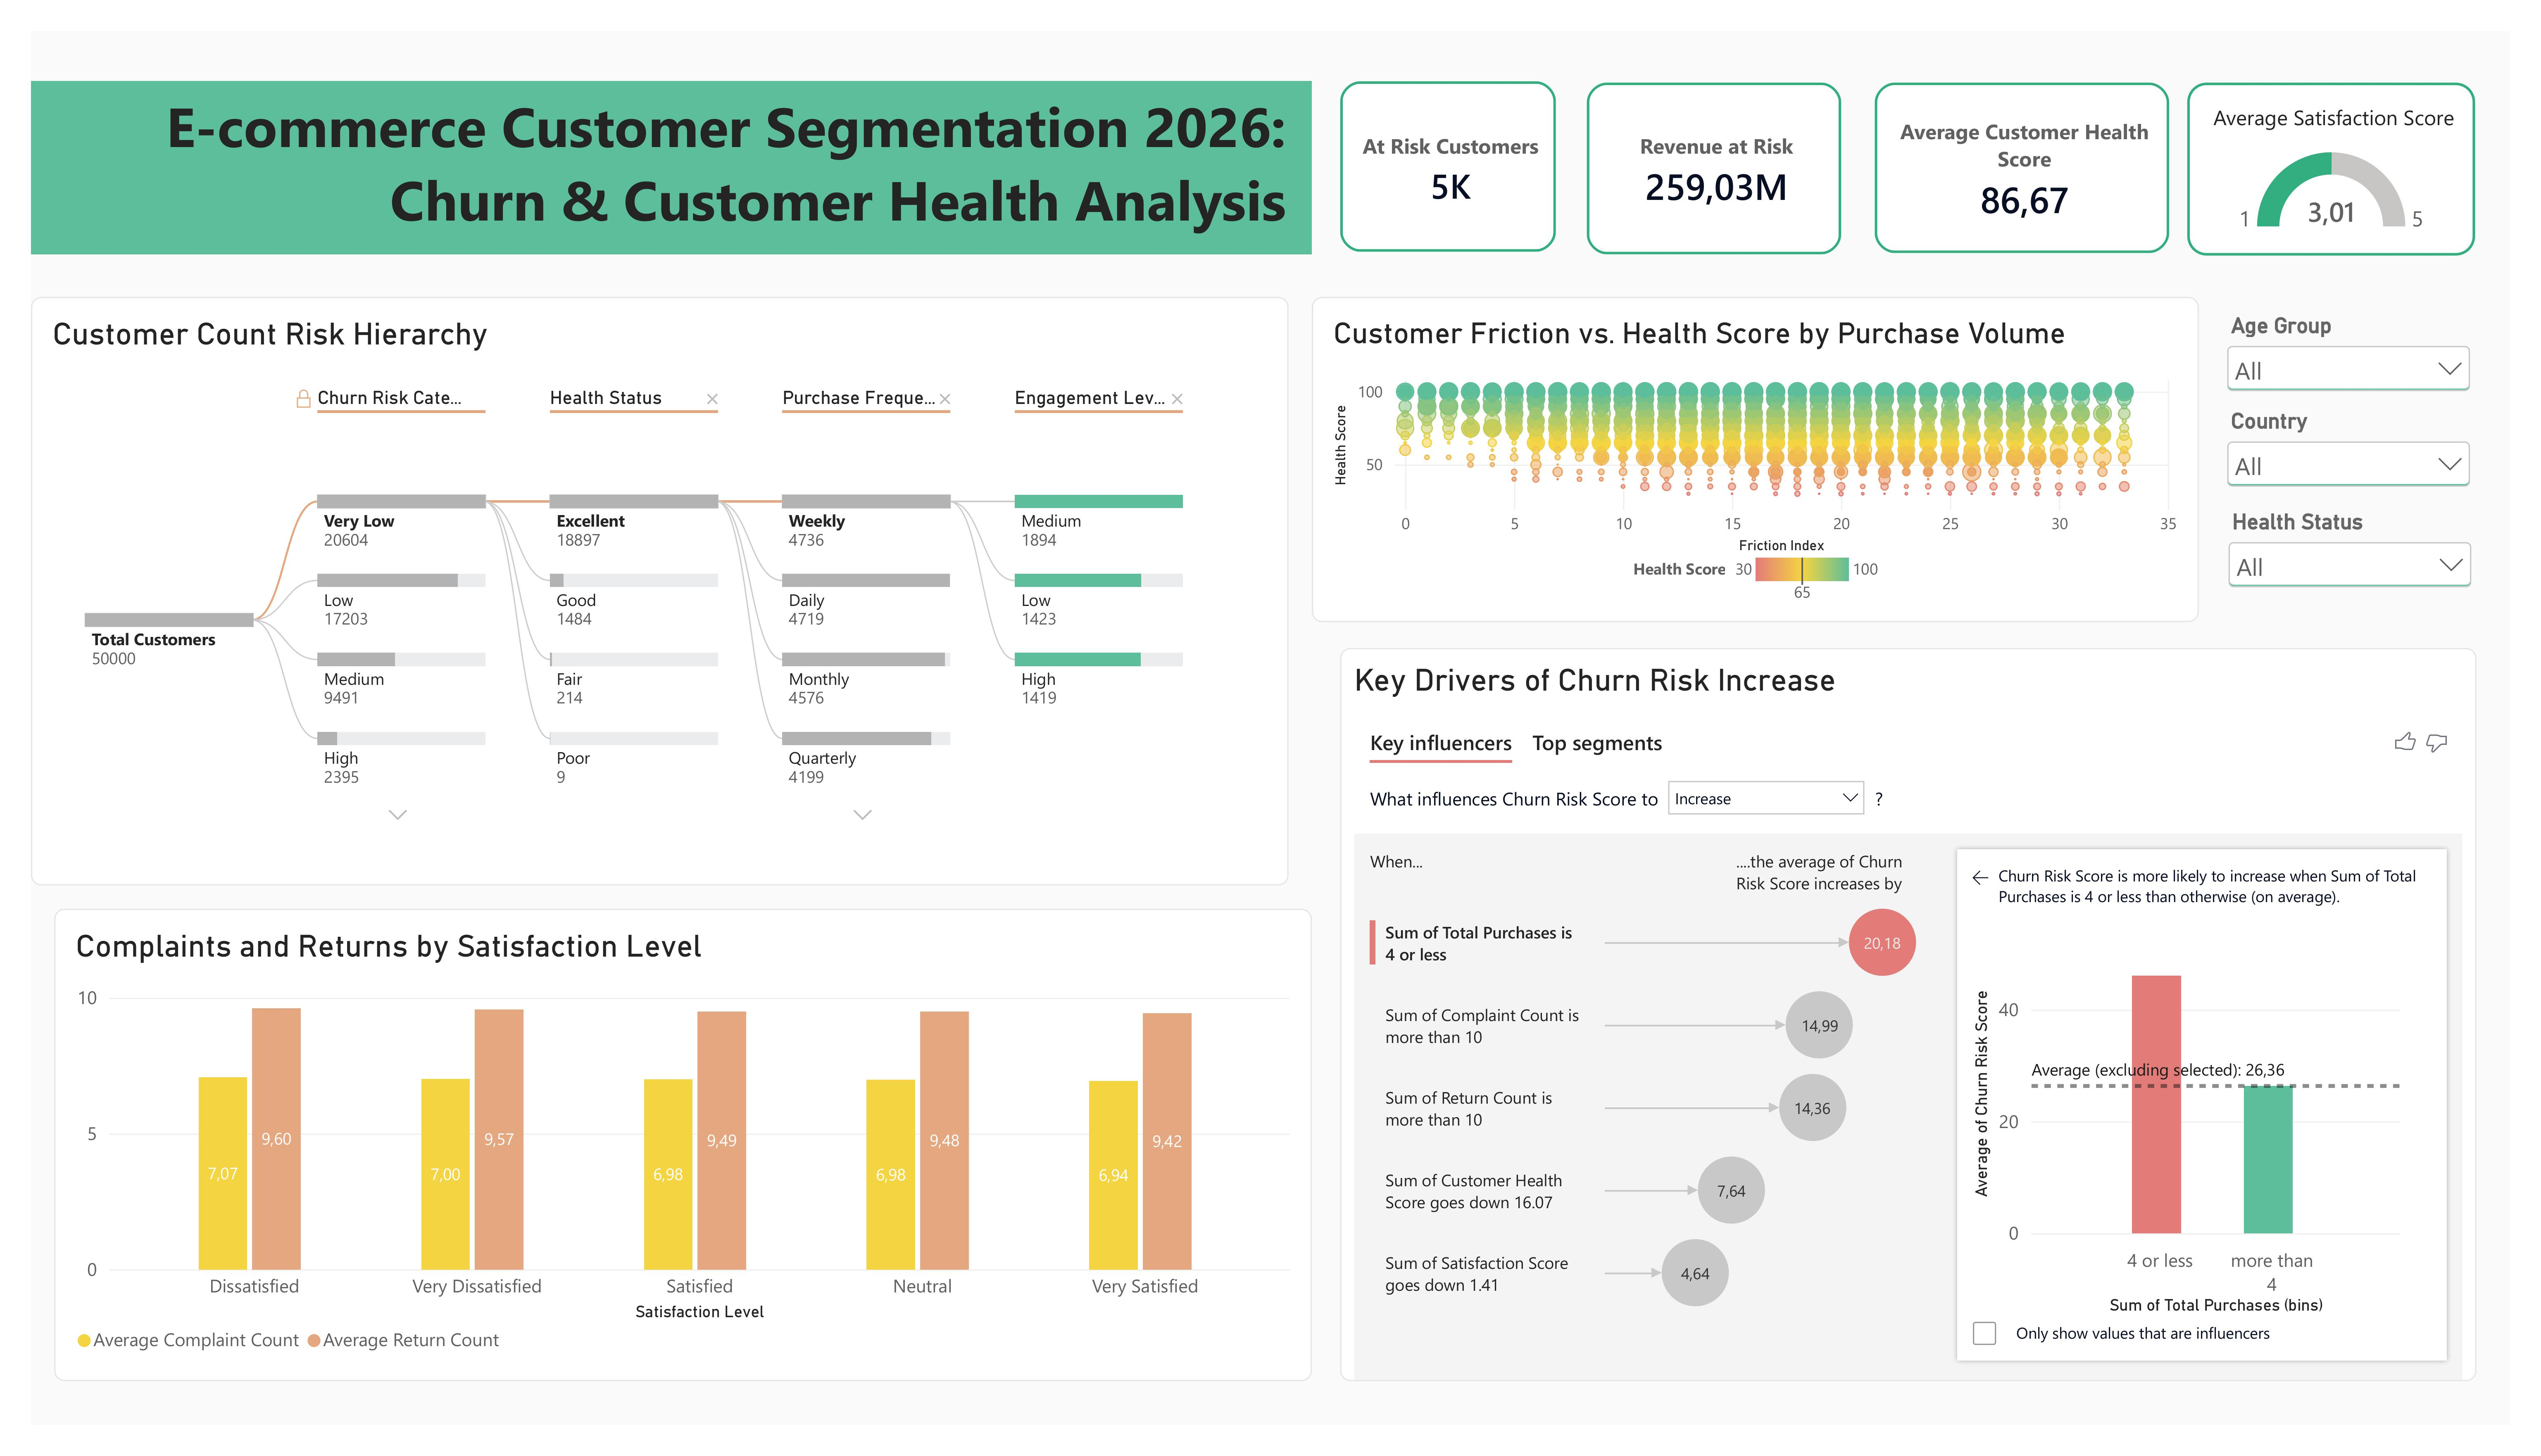

This screenshot's page, from the dashboard's own definition file:
{"tool":"powerbi","page":{"name":"Page 2","canvas":[1920,1080],"ordinal":1},"visuals":[{"type":"cardVisual","fields":{"Data":["E-commerce_Customer_Segmentation_2026.At Risk Customers"]},"box":[1014.1,39.5,167.5,132.5],"z":0},{"type":"cardVisual","fields":{"Data":["E-commerce_Customer_Segmentation_2026.Revenue at Risk USD"]},"box":[1205.2,39.8,197.3,133.9],"z":1000},{"type":"cardVisual","fields":{"Data":["Avg(E-commerce_Customer_Segmentation_2026.customer_health_score)"]},"box":[1427.8,39.8,228,132.1],"z":2000},{"type":"gauge","title":"Average Satisfaction Score","fields":{"Y":["Avg(E-commerce_Customer_Segmentation_2026.satisfaction_score)"],"MinValue":["Min(E-commerce_Customer_Segmentation_2026.satisfaction_score)"],"MaxValue":["Max(E-commerce_Customer_Segmentation_2026.satisfaction_score)"]},"box":[1670.3,39.8,222.6,133.9],"z":3000},{"type":"keyDriversVisual","title":"Key Drivers of Churn Risk Increase","fields":{"Target":["E-commerce_Customer_Segmentation_2026.churn_risk_score"],"ExplainBy":["Sum(E-commerce_Customer_Segmentation_2026.complaint_count)","Sum(E-commerce_Customer_Segmentation_2026.customer_health_score)","Sum(E-commerce_Customer_Segmentation_2026.return_count)","Sum(E-commerce_Customer_Segmentation_2026.satisfaction_score)","Sum(E-commerce_Customer_Segmentation_2026.total_purchases)"]},"box":[1014,478,880,568],"z":4000},{"type":"decompositionTreeVisual","title":"Customer Count Risk Hierarchy","fields":{"ExplainBy":["E-commerce_Customer_Segmentation_2026.churn_risk_category","E-commerce_Customer_Segmentation_2026.health_status","E-commerce_Customer_Segmentation_2026.purchase_frequency","E-commerce_Customer_Segmentation_2026.engagement_level"],"Analyze":["E-commerce_Customer_Segmentation_2026.Total Customers"]},"box":[0,206.3,973.6,456],"z":5000},{"type":"clusteredColumnChart","title":"Complaints and Returns by Satisfaction Level","fields":{"Category":["E-commerce_Customer_Segmentation_2026.satisfaction_level"],"Y":["Avg(E-commerce_Customer_Segmentation_2026.complaint_count)","Avg(E-commerce_Customer_Segmentation_2026.return_count)"]},"box":[18,680,974,366],"z":7000},{"type":"textbox","box":[0.3,39,992,134],"z":8000},{"type":"slicer","fields":{"Values":["E-commerce_Customer_Segmentation_2026.country"]},"box":[1696.3,292,198,74],"z":9000},{"type":"slicer","fields":{"Values":["E-commerce_Customer_Segmentation_2026.age_group"]},"box":[1696.3,218,198,74],"z":10000},{"type":"slicer","fields":{"Values":["E-commerce_Customer_Segmentation_2026.health_status"]},"box":[1697.1,369.6,198,74],"z":11000},{"type":"scatterChart","title":"Customer Friction vs. Health Score by Purchase Volume","fields":{"X":["E-commerce_Customer_Segmentation_2026.Customer Friction Index"],"Y":["Avg(E-commerce_Customer_Segmentation_2026.customer_health_score)"],"Category":["E-commerce_Customer_Segmentation_2026.customer_id"],"Size":["Avg(E-commerce_Customer_Segmentation_2026.total_purchases)"]},"box":[991.7,206.3,687.7,251.5],"z":12000}]}

Visuals, with their boxes on the page's 1920x1080 design canvas (x1, y1, x2, y2). These are canvas units, not pixel positions in the 2541x1456 screenshot, which may show the page scaled, cropped or inside an application window:
cardVisual - E-commerce_Customer_Segmentation_2026.At Risk Customers: box=[1014, 40, 1182, 172]
cardVisual - E-commerce_Customer_Segmentation_2026.Revenue at Risk USD: box=[1205, 40, 1402, 174]
cardVisual - Avg(E-commerce_Customer_Segmentation_2026.customer_health_score): box=[1428, 40, 1656, 172]
"Average Satisfaction Score" gauge: box=[1670, 40, 1893, 174]
"Key Drivers of Churn Risk Increase" keyDriversVisual: box=[1014, 478, 1894, 1046]
"Customer Count Risk Hierarchy" decompositionTreeVisual: box=[0, 206, 974, 662]
"Complaints and Returns by Satisfaction Level" clusteredColumnChart: box=[18, 680, 992, 1046]
textbox: box=[0, 39, 992, 173]
slicer - E-commerce_Customer_Segmentation_2026.country: box=[1696, 292, 1894, 366]
slicer - E-commerce_Customer_Segmentation_2026.age_group: box=[1696, 218, 1894, 292]
slicer - E-commerce_Customer_Segmentation_2026.health_status: box=[1697, 370, 1895, 444]
"Customer Friction vs. Health Score by Purchase Volume" scatterChart: box=[992, 206, 1679, 458]
